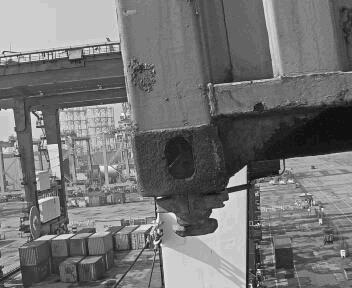twist_lock_1: (98, 188, 185, 246)
